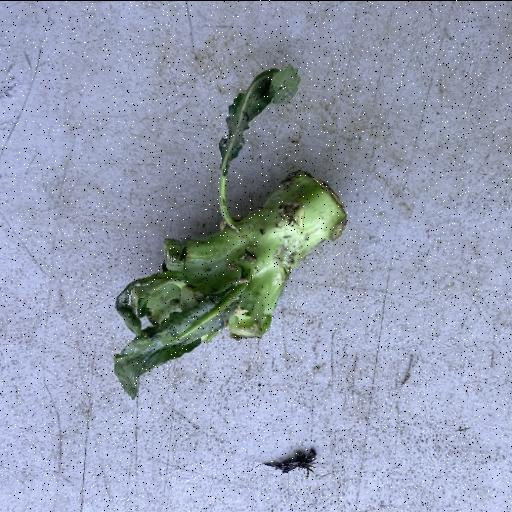Waste: (110, 64, 348, 400)
